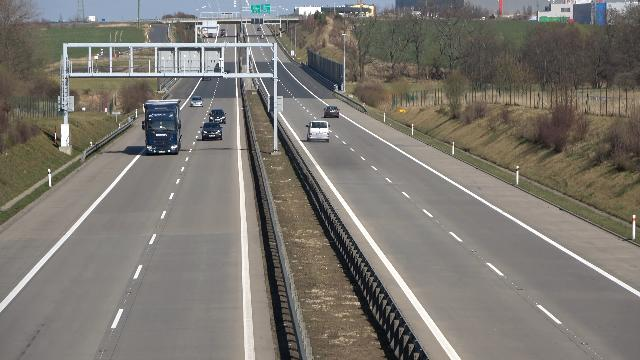car: (200, 123, 223, 140), (322, 104, 341, 120), (209, 108, 227, 124), (190, 95, 205, 108)
truck: (143, 100, 182, 155)
van: (306, 120, 330, 143)
